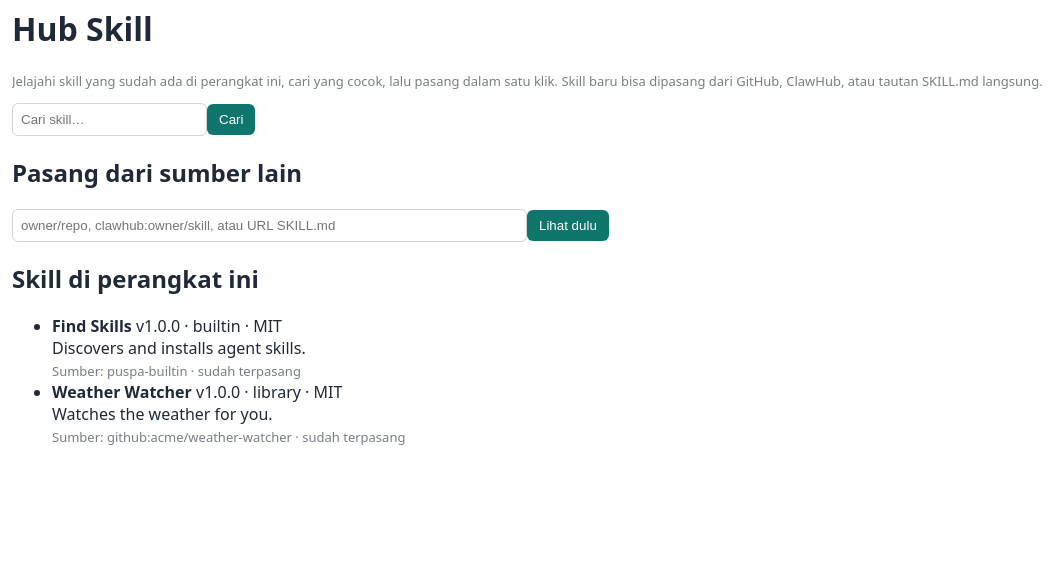
Test case: HubScreen › previews a source, then installs it only after confirm
expect the text "Find Skills" is shown: met, box [52,314,132,336]
In the field named "Sumber skill": (270, 225) [12,209,527,242], type "acme/weather-watcher"
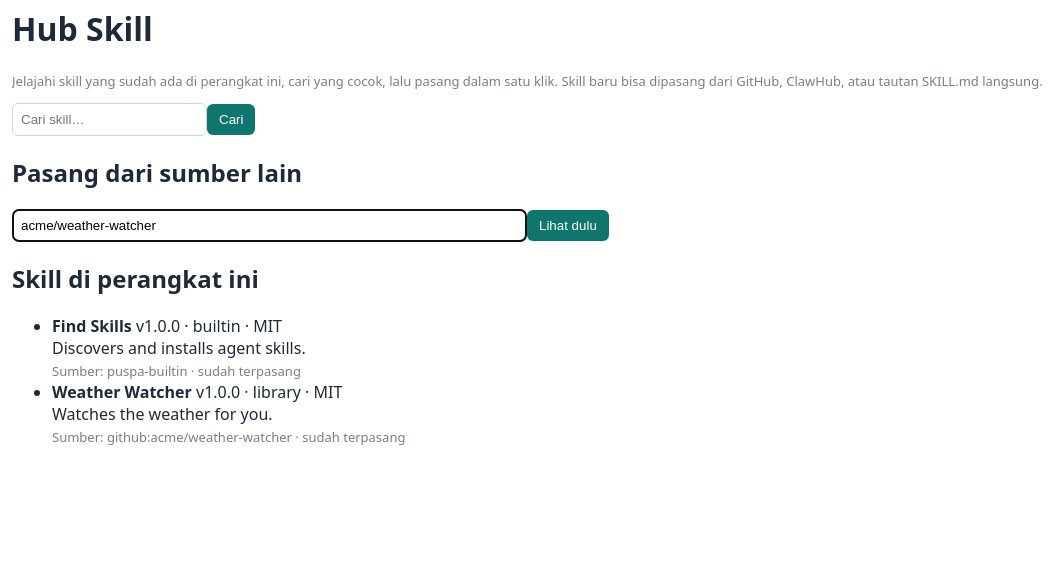
Click the button "Lihat dulu": (568, 225) [527,210,609,241]
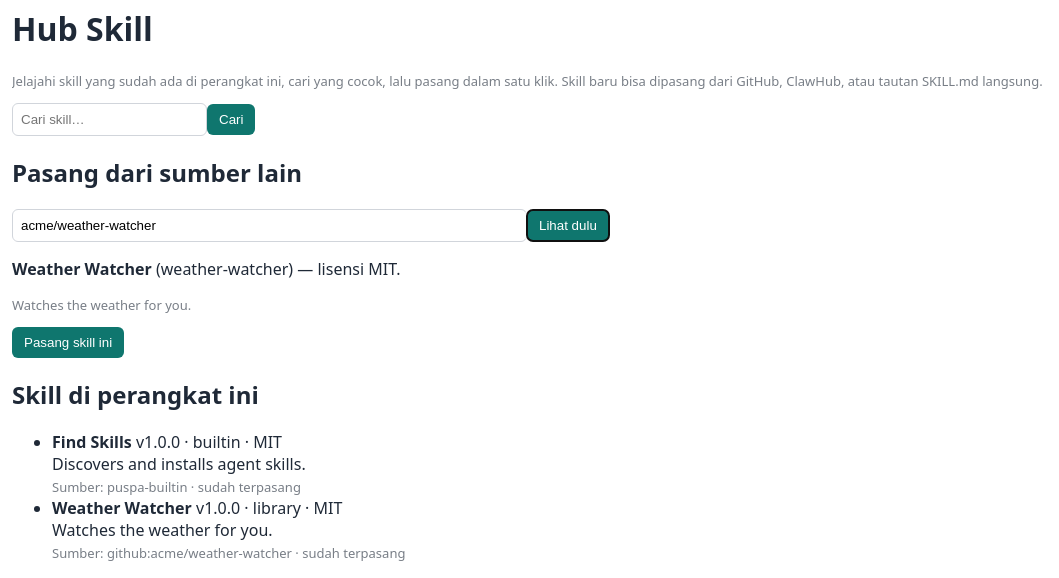
expect the text "Weather Watcher" is shown 2 times: met, box [12,258,152,280]; [52,496,192,518]
expect the text "Weather Watcher (weather-watcher) — lisensi MIT." is shown: met, box [12,258,400,280]
Click the button "Pasang skill ini": (68, 342) [12,327,124,358]
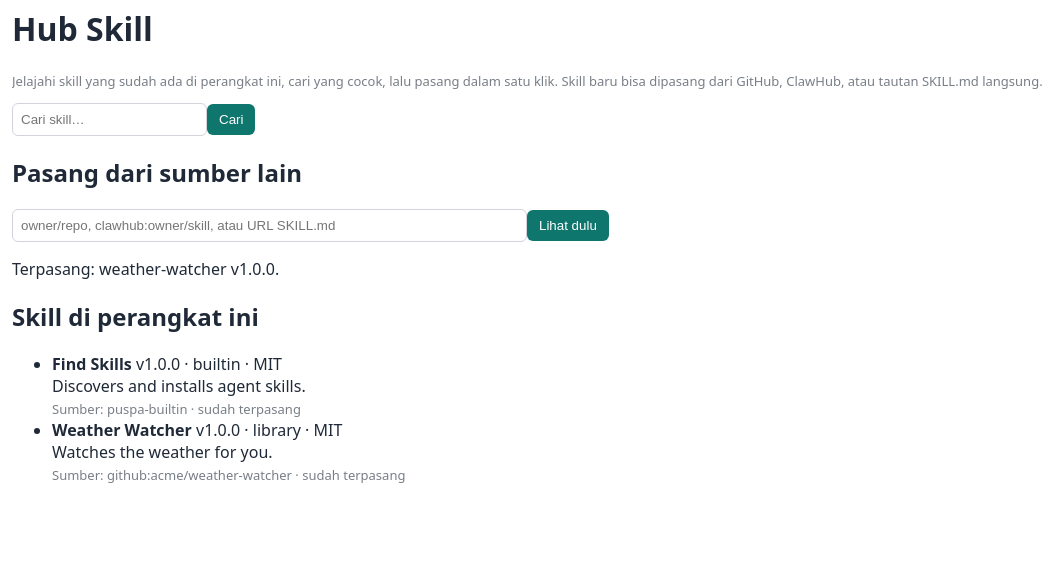
expect the text "Terpasang: weather-watcher v1.0.0." is shown: met, box [12,258,279,280]
